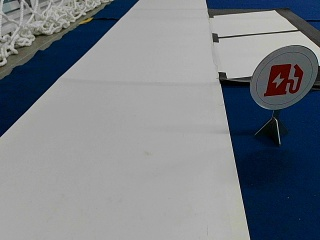battery: (249, 44, 317, 109)
